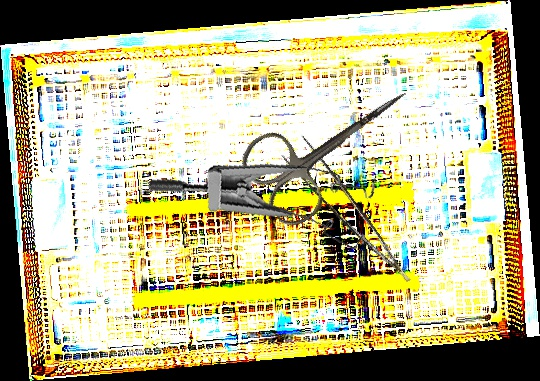Iris Scissors: (234, 54, 434, 234)
Speculum: (145, 135, 389, 286)
Tissue Forceps: (277, 130, 412, 300)
